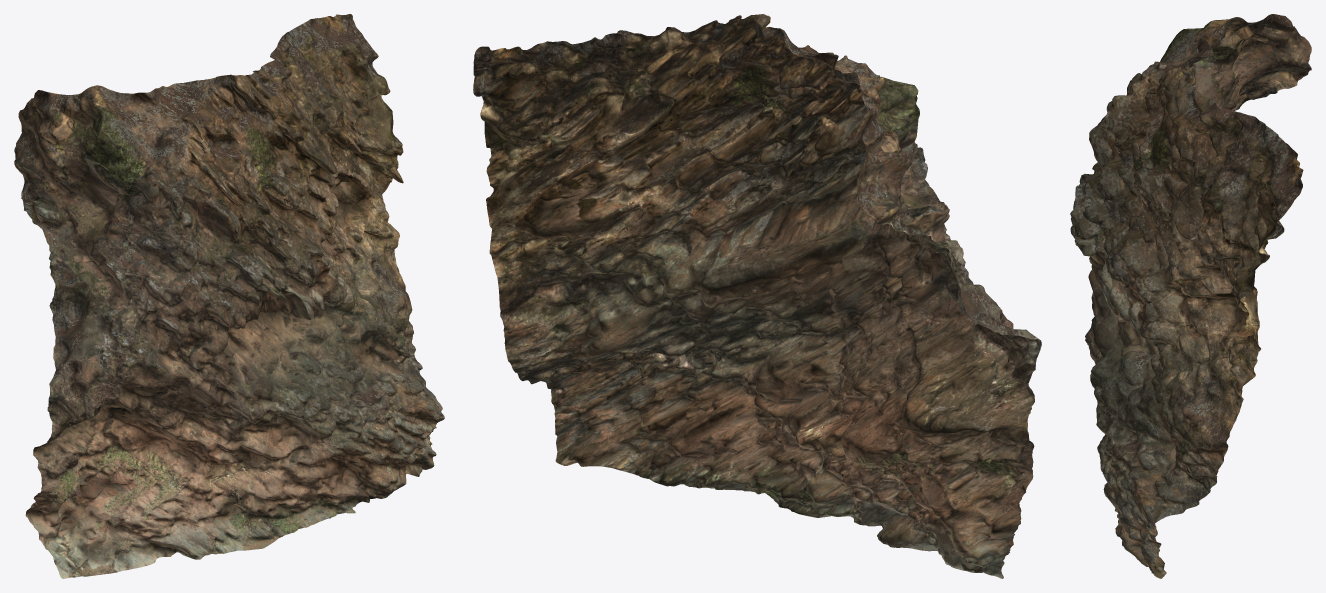
File: mountainside.glb
3 views of the same model, side by side, from view 1: azimuth 30°, elevation 25°; view 2: azimuth 150°, elevation 25°; view 3: azimuth 270°, elevation 25° (orthographic). The views are drawn at different scales.
Visible parts, largest first — view 1: mountainside; view 2: mountainside; view 3: mountainside.
Part boxes in pixels (bbox=[...]): mountainside: bbox=[14, 14, 444, 578]; mountainside: bbox=[473, 14, 1041, 578]; mountainside: bbox=[1070, 14, 1311, 578].
Size of the model in its own units: 10.21 by 10.52 by 5.25.
Materials: 1 (1 with a texture image).
